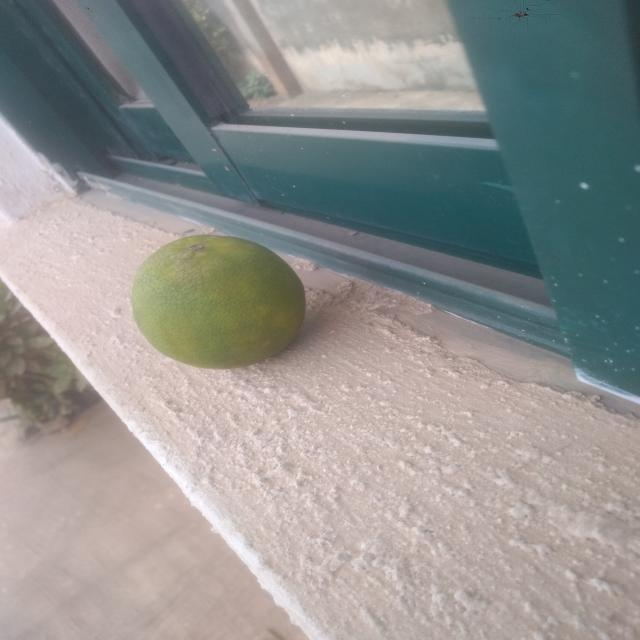agrume: (110, 220, 342, 394)
